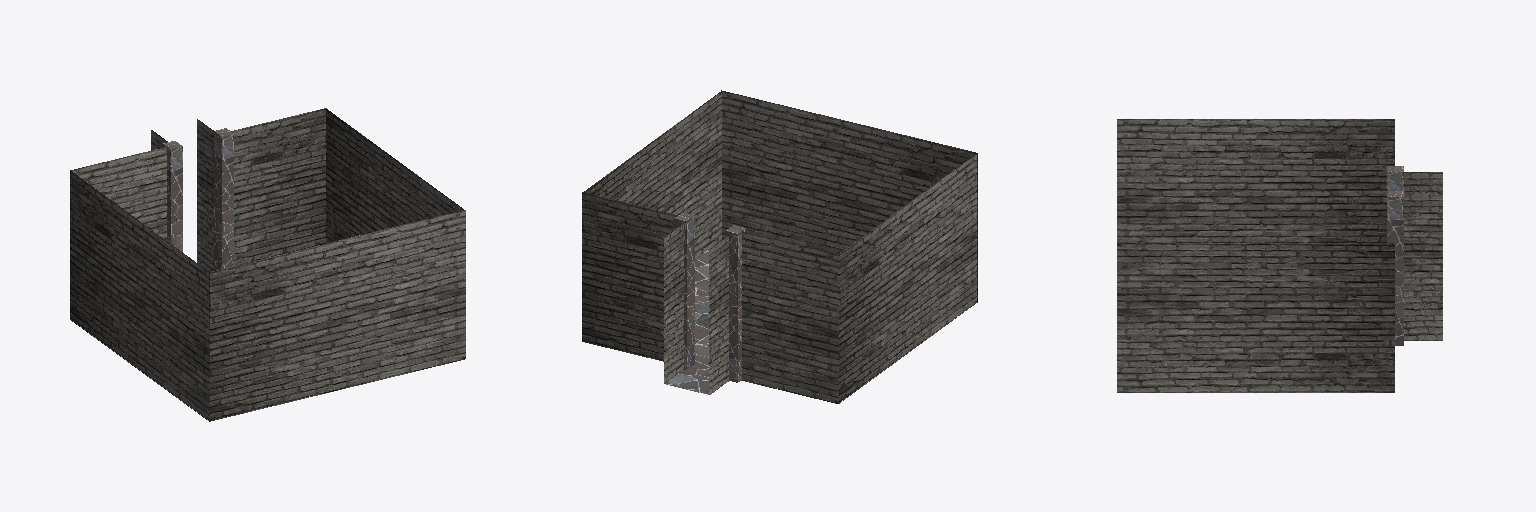
3 views of the same model, side by side, from view 1: azimuth 30°, elevation 25°; view 2: azimuth 150°, elevation 25°; view 3: azimuth 270°, elevation 25° (orthographic).
Parts seen in each view (by area): view 1: pasted__pasted__pasted__polySurface2 pasted__pasted__group6 past; view 2: pasted__pasted__pasted__polySurface2 pasted__pasted__group6 past; view 3: pasted__pasted__pasted__polySurface2 pasted__pasted__group6 past.
Boxes of the visible parts, box(x1,y1,x2,y2) form: pasted__pasted__pasted__polySurface2 pasted__pasted__group6 past: box(70, 108, 465, 421); pasted__pasted__pasted__polySurface2 pasted__pasted__group6 past: box(582, 90, 977, 403); pasted__pasted__pasted__polySurface2 pasted__pasted__group6 past: box(1117, 119, 1442, 392).
Size of the model in its own units: 45.65 by 25.43 by 50.16.
Materials: 1 (1 with a texture image).